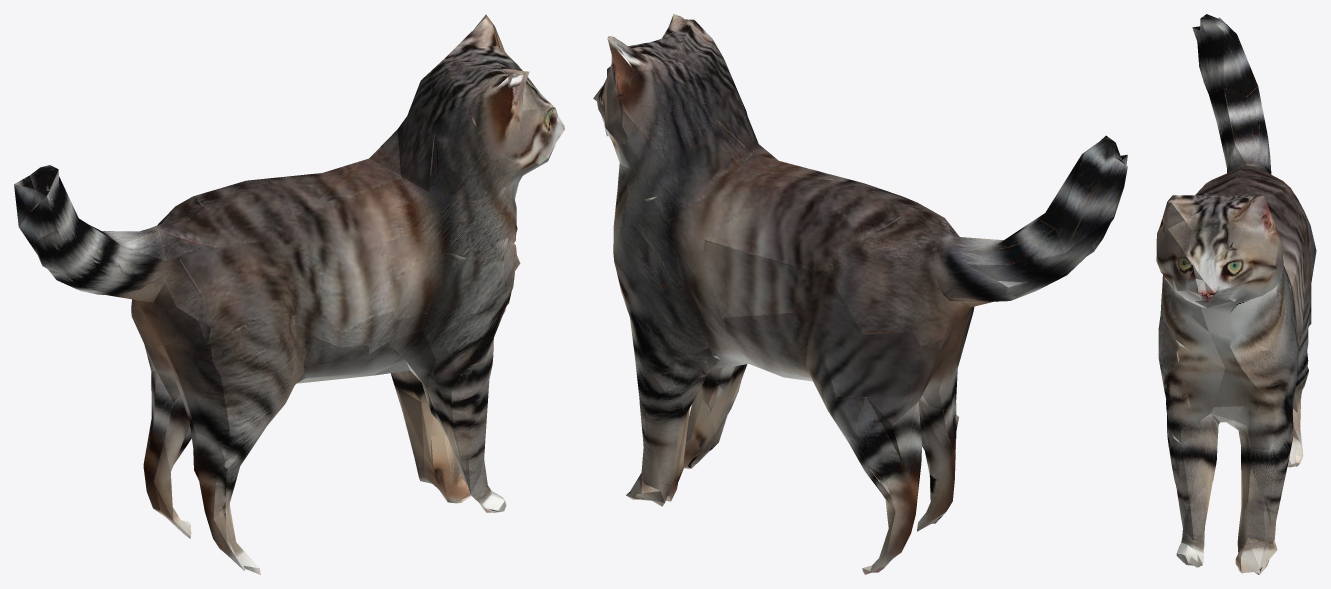
File: FAITHCAT-lo.glb
3 views of the same model, side by side, from view 1: azimuth 30°, elevation 25°; view 2: azimuth 150°, elevation 25°; view 3: azimuth 270°, elevation 25° (orthographic). The views are drawn at different scales.
Parts seen in each view (by area): view 1: output_unwrapped; view 2: output_unwrapped; view 3: output_unwrapped.
Part boxes in pixels (<box>): output_unwrapped: <box>14,14,564,574</box>; output_unwrapped: <box>593,14,1127,574</box>; output_unwrapped: <box>1156,14,1316,574</box>.
Bounding box in the file's own units: 1.21 × 1 × 0.3714.
1 material, 1 textured.
